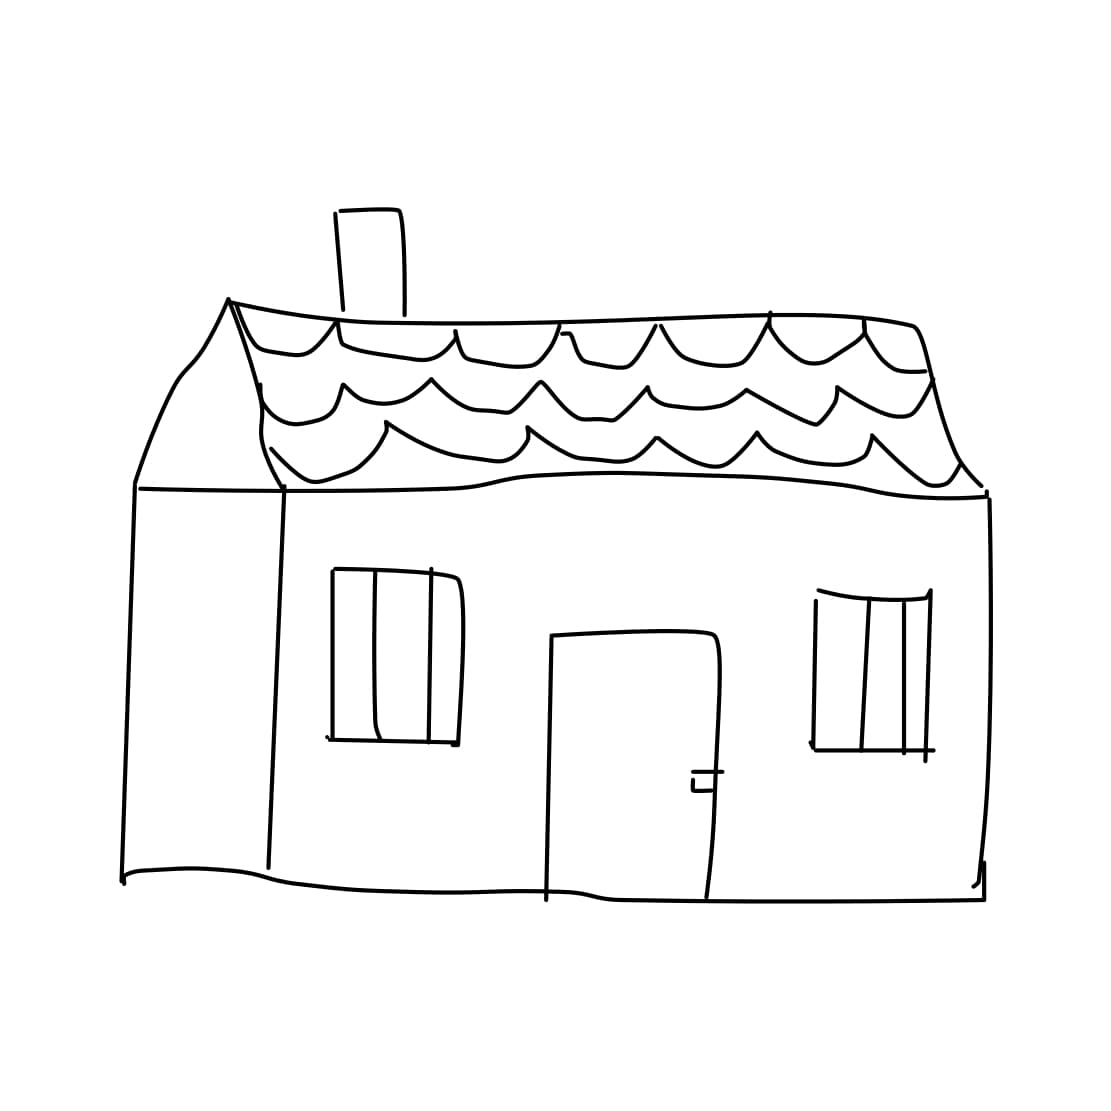House: (81, 176, 1034, 953)
